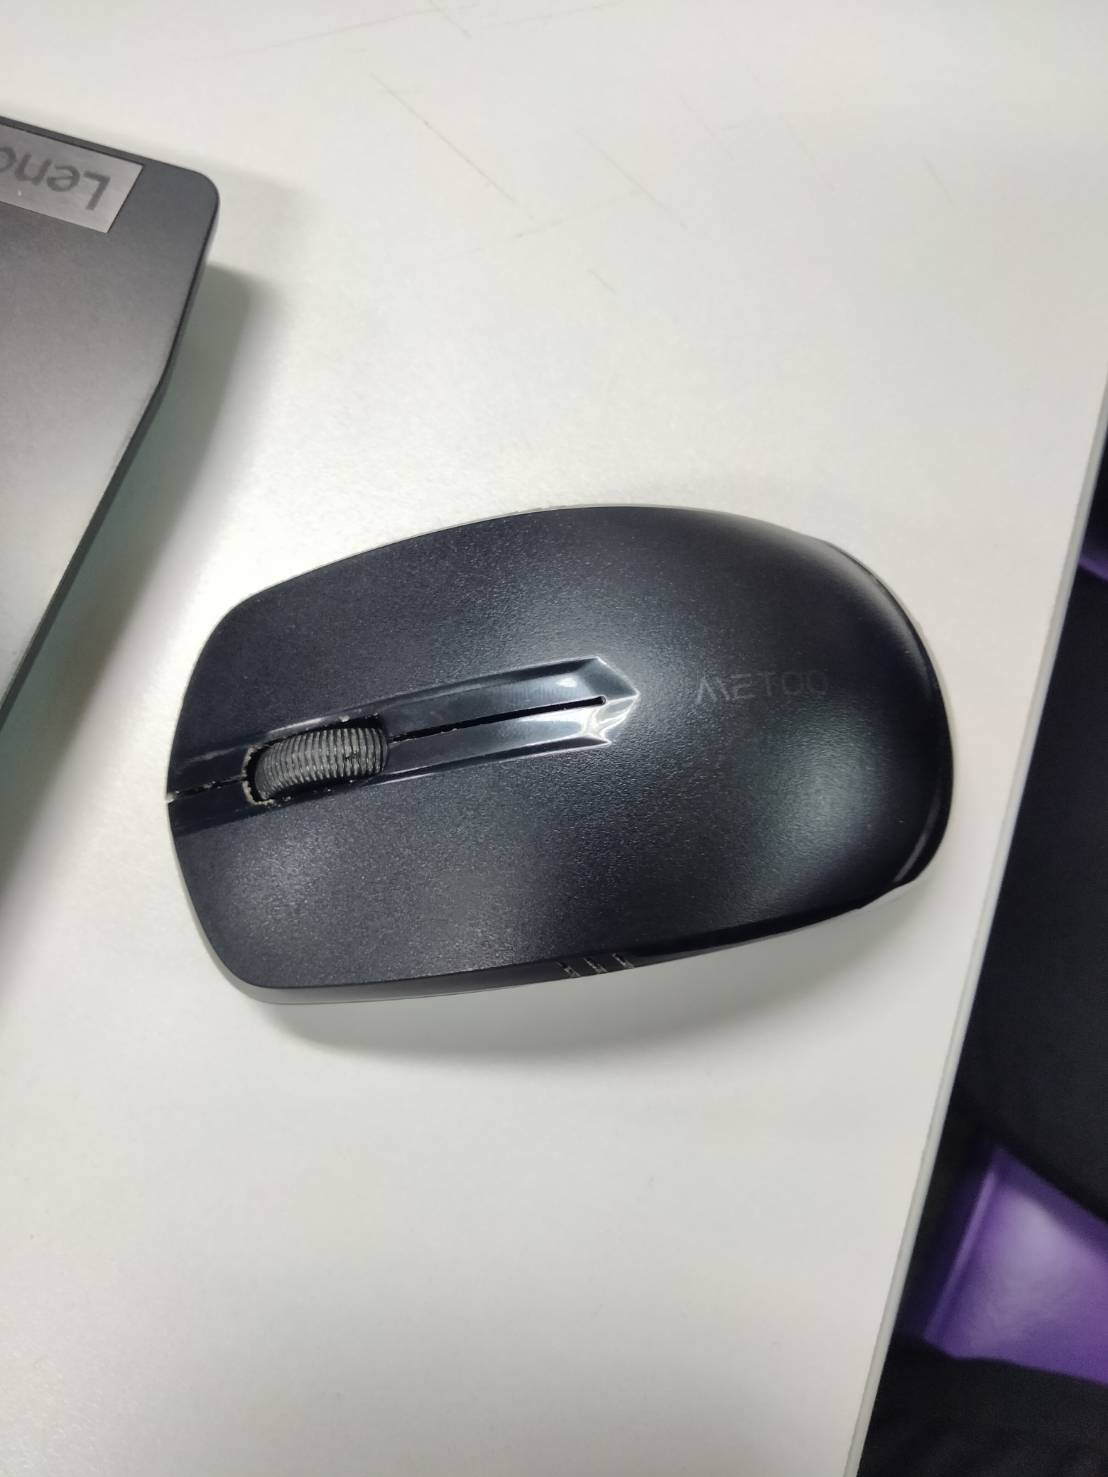mouse: (158, 491, 993, 1034)
